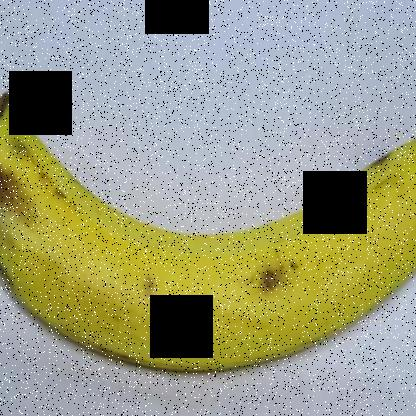freshripe: (1, 76, 415, 385)
